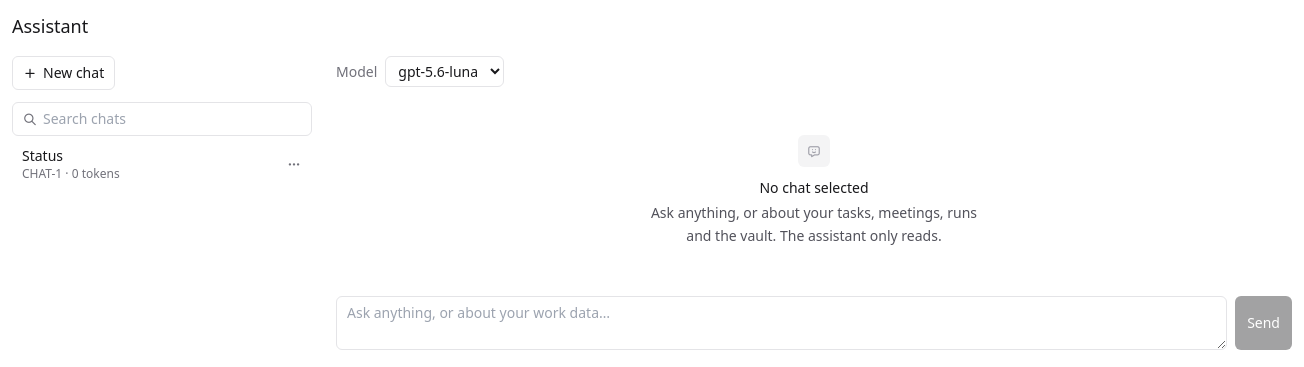
Test: budget › a 409 budget exhausted disables the input and offers 'New chat from this one'
Click the button "Status CHAT-1 · 0 tokens": (43,156) [12,140,276,188]
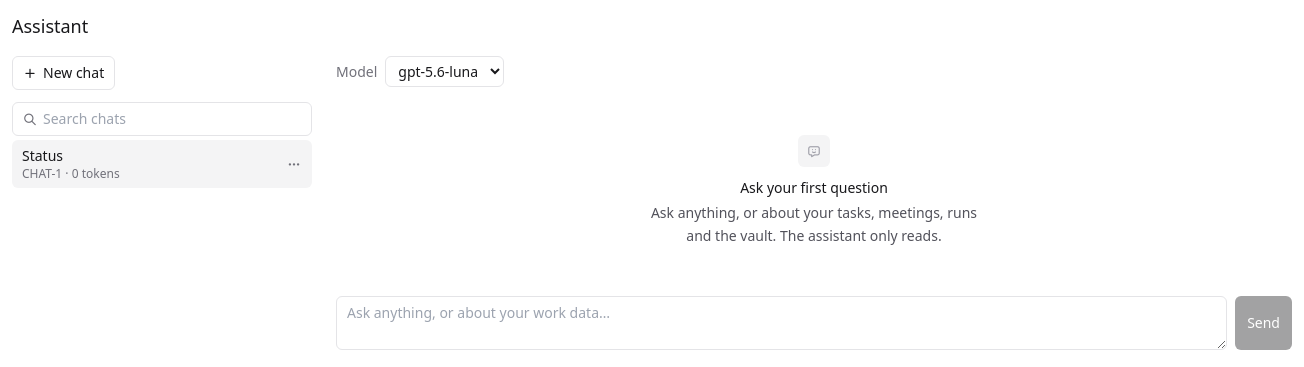
In the text box named "Message": (782,322) [336,296,1227,350], type "one more"
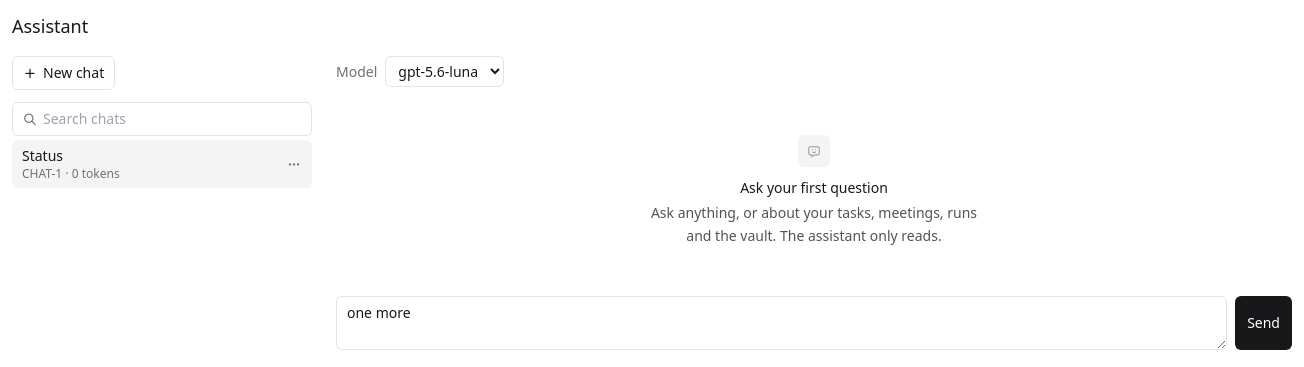
Click the button "Send": (1264,322) [1235,296,1292,350]
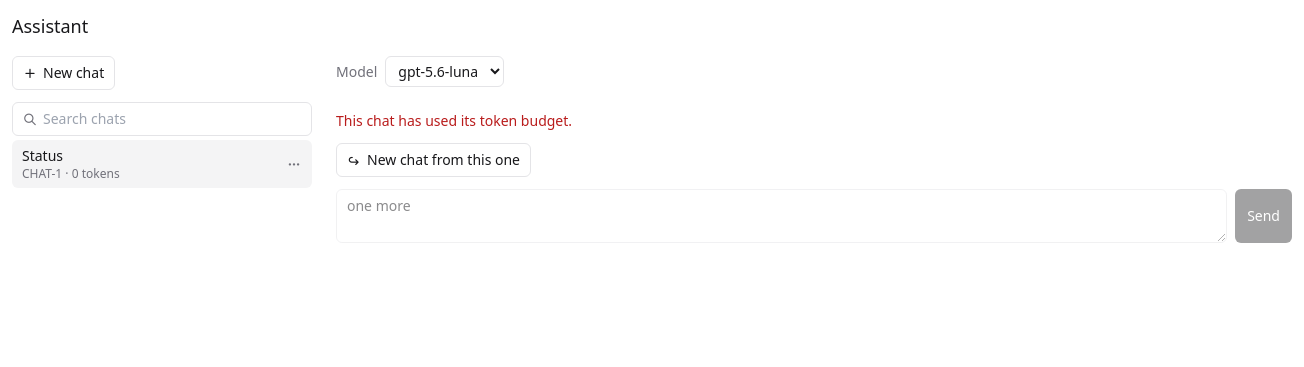
Expected: the button "New chat from this one" is shown, [336,143,531,177]
Expected: the text box named "Message" is disabled, [336,189,1227,243]
